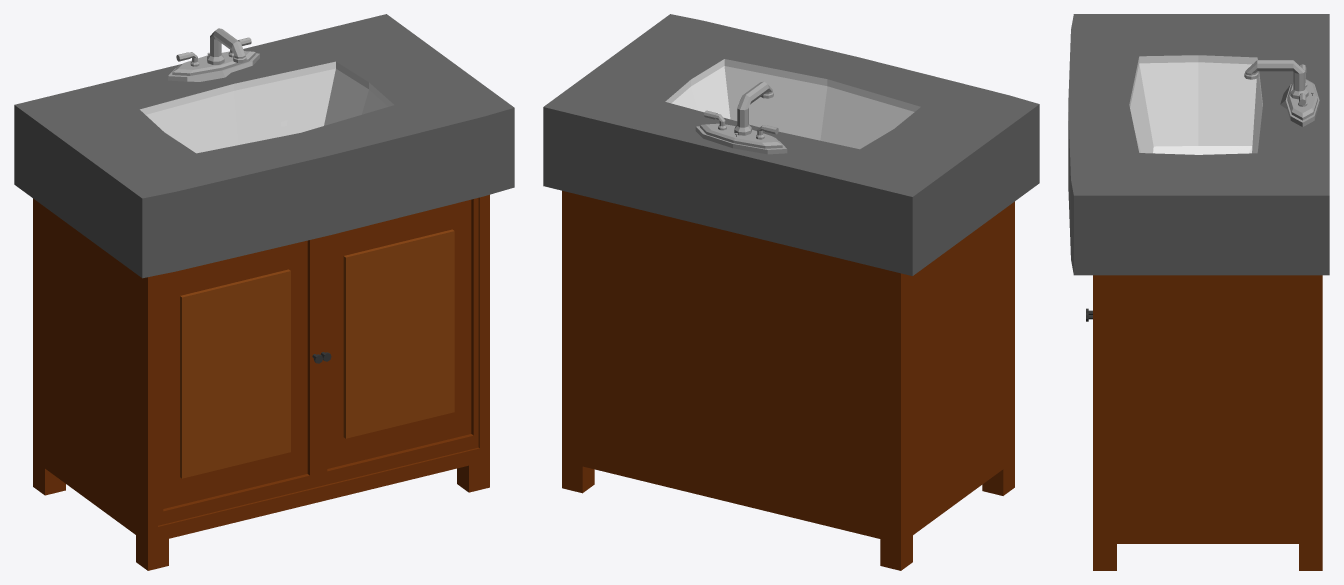
The model's file is Vanity.fbx.
3 renders of one model, left to right at view 1: azimuth 30°, elevation 25°; view 2: azimuth 150°, elevation 25°; view 3: azimuth 270°, elevation 25°, orthographic.
Parts seen in each view (by area): view 1: Vanity; view 2: Vanity; view 3: Vanity.
Boxes of the visible parts, x1,y1,x2,y2 form: Vanity: [14, 14, 514, 570]; Vanity: [543, 14, 1039, 570]; Vanity: [1068, 14, 1329, 570].
Size of the model in its own units: 1.2 by 1.31 by 0.7279.
